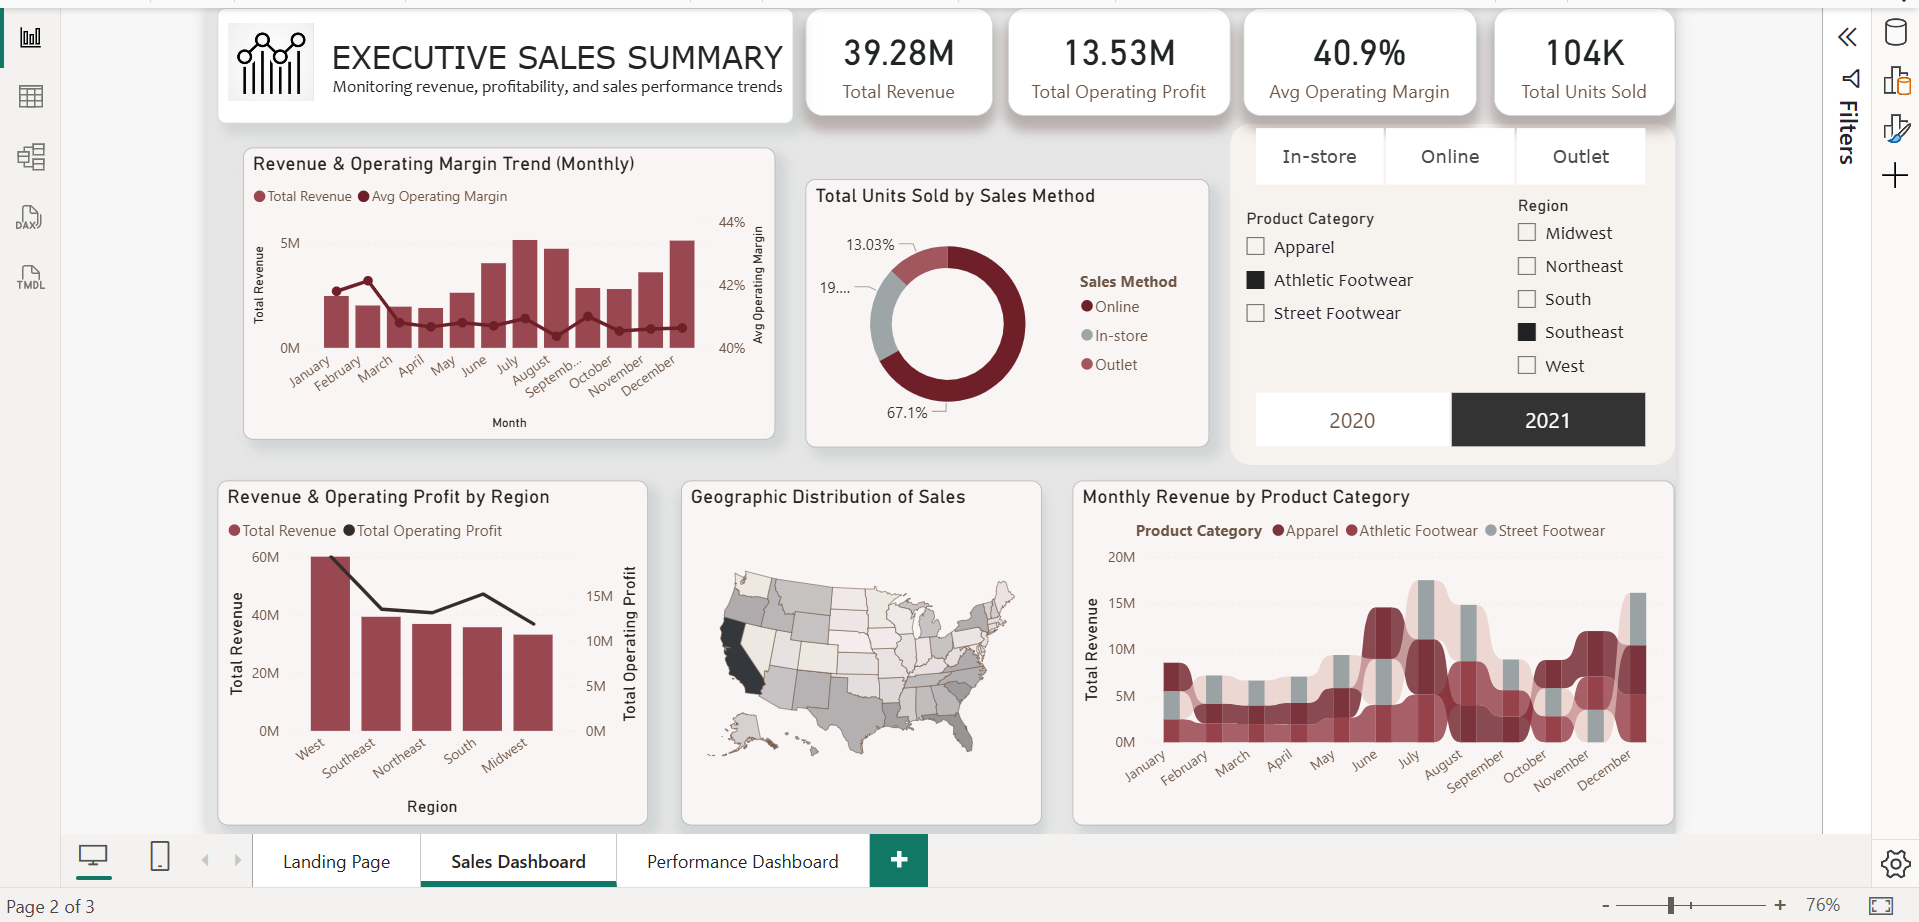

The page's visual inventory and layout, read from the dashboard file:
{"tool":"powerbi","page":{"name":"Sales Dashboard","canvas":[1280,720],"ordinal":1},"visuals":[{"type":"shape","box":[891.6,100.7,388.3,297.7],"z":0},{"type":"card","fields":{"Values":["Sales Details.Total Sales KPI"]},"box":[521.4,0,163.2,94.2],"z":1000},{"type":"card","fields":{"Values":["Sales Details.Units Sold KPI"]},"box":[1122.5,0,157.9,94.2],"z":2000},{"type":"card","fields":{"Values":["Sales Details.Operating Profit KPI"]},"box":[697.9,0,193.7,94.2],"z":3000},{"type":"card","fields":{"Values":["Sales Details.Avg Operating Margin KPI"]},"box":[903.6,0,203,94.2],"z":4000},{"type":"lineClusteredColumnComboChart","title":"Revenue & Operating Profit by Region","fields":{"Category":["Sales Details.Region"],"Y":["Sales Details.Total Revenue"],"Y2":["Sales Details.Total Operating Profit"]},"box":[8.6,411.3,375.3,300.6],"z":5000},{"type":"ribbonChart","title":"Monthly Revenue by Product Category","fields":{"Category":["Sales Details.Invoice Date.Variation.Date Hierarchy.Month"],"Series":["Sales Details.Product Category"],"Y":["Sales Details.Total Revenue"]},"box":[755,411.3,524.9,300.6],"z":6000},{"type":"donutChart","fields":{"Category":["Sales Details.Sales Method"],"Y":["Sales Details.Total Units Sold"]},"box":[496.1,147.4,350.9,234.4],"z":7000},{"type":"lineClusteredColumnComboChart","title":"Revenue & Operating Margin Trend (Monthly)","fields":{"Category":["Sales Details.Invoice Date.Variation.Date Hierarchy.Month"],"Y":["Sales Details.Total Revenue"],"Y2":["Sales Details.Avg Operating Margin"]},"box":[31.4,121.6,464.2,255],"z":8000},{"type":"slicer","fields":{"Values":["Sales Details.Product Category"]},"box":[893.1,169.7,197,161.1],"z":9000},{"type":"slicer","fields":{"Values":["Sales Details.Region"]},"box":[1130.4,158.2,142.4,172.6],"z":10000},{"type":"slicer","fields":{"Values":["Sales Details.Sales Method"]},"box":[893.1,100.7,379.7,57.5],"z":11000},{"type":"slicer","fields":{"Values":["Sales Details.Invoice Date.Variation.Date Hierarchy.Year"]},"box":[893.1,333.6,379.7,50.3],"z":12000},{"type":"textbox","box":[8.6,0,501.9,100.7],"z":13000},{"type":"shapeMap","title":"Geographic Distribution of Sales","fields":{"Category":["Sales Details.State"],"Value":["Sales Details.Total Revenue"]},"box":[412.7,411.3,314.9,300.6],"z":14000},{"type":"image","box":[18.3,13.1,74.5,68],"z":15000}]}

Visuals, with their boxes on the page's 1280x720 design canvas (x1, y1, x2, y2). These are canvas units, not pixel positions in the 1919x922 screenshot, which may show the page scaled, cropped or inside an application window:
shape: [892, 101, 1280, 398]
card - Sales Details.Total Sales KPI: [521, 0, 685, 94]
card - Sales Details.Units Sold KPI: [1122, 0, 1280, 94]
card - Sales Details.Operating Profit KPI: [698, 0, 892, 94]
card - Sales Details.Avg Operating Margin KPI: [904, 0, 1107, 94]
"Revenue & Operating Profit by Region" lineClusteredColumnComboChart: [9, 411, 384, 712]
"Monthly Revenue by Product Category" ribbonChart: [755, 411, 1280, 712]
donutChart - Sales Details.Sales Method x Sales Details.Total Units Sold: [496, 147, 847, 382]
"Revenue & Operating Margin Trend (Monthly)" lineClusteredColumnComboChart: [31, 122, 496, 377]
slicer - Sales Details.Product Category: [893, 170, 1090, 331]
slicer - Sales Details.Region: [1130, 158, 1273, 331]
slicer - Sales Details.Sales Method: [893, 101, 1273, 158]
slicer - Sales Details.Invoice Date.Variation.Date Hierarchy.Year: [893, 334, 1273, 384]
textbox: [9, 0, 510, 101]
"Geographic Distribution of Sales" shapeMap: [413, 411, 728, 712]
image: [18, 13, 93, 81]
